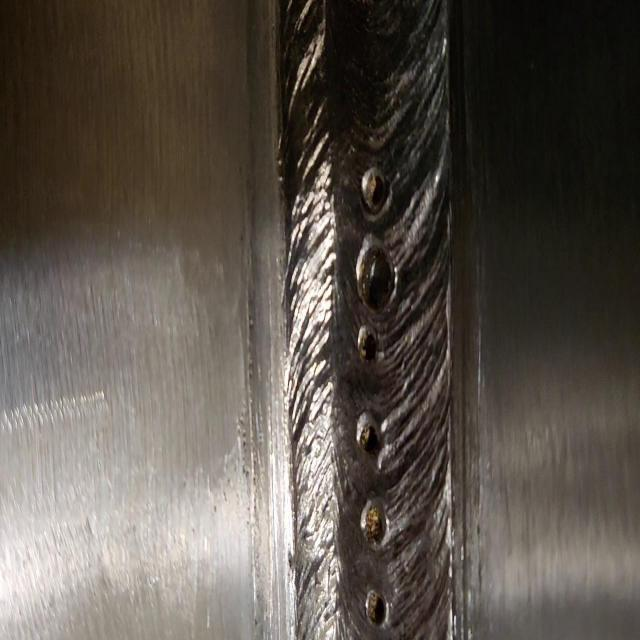Welding Line: (285, 0, 449, 640)
porosity: (353, 166, 397, 627)
